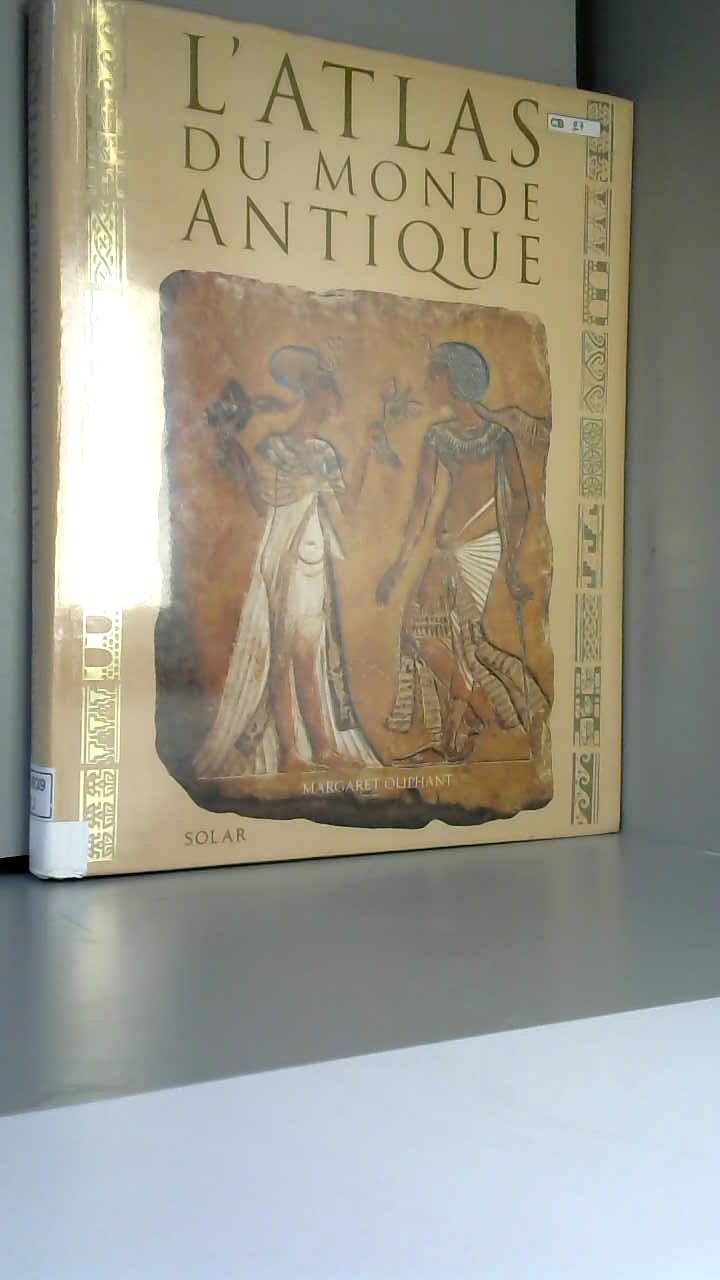book: (0, 0, 657, 919)
